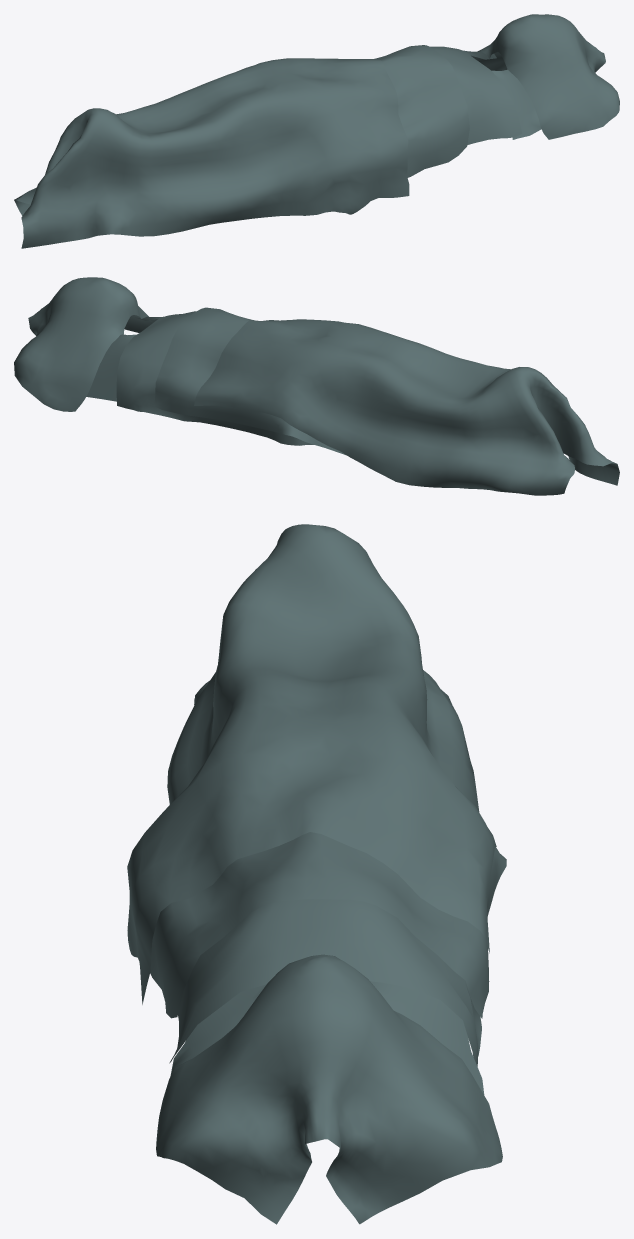
The model's file is Neuromonitoring_Cloths.fbx.
The picture shows the model from 3 angles, top to bottom: view 1: azimuth 30°, elevation 25°; view 2: azimuth 150°, elevation 25°; view 3: azimuth 270°, elevation 25°; orthographic projection. The views are drawn at different scales.
Visible parts, largest first — view 1: New_Cloth1; view 2: New_Cloth1; view 3: New_Cloth1.
Boxes of the visible parts, x1=… form: New_Cloth1: x1=14, y1=14, x2=619, y2=248; New_Cloth1: x1=14, y1=277, x2=619, y2=495; New_Cloth1: x1=127, y1=524, x2=506, y2=1224.
Size of the model in its own units: 242 by 46.94 by 69.17.
